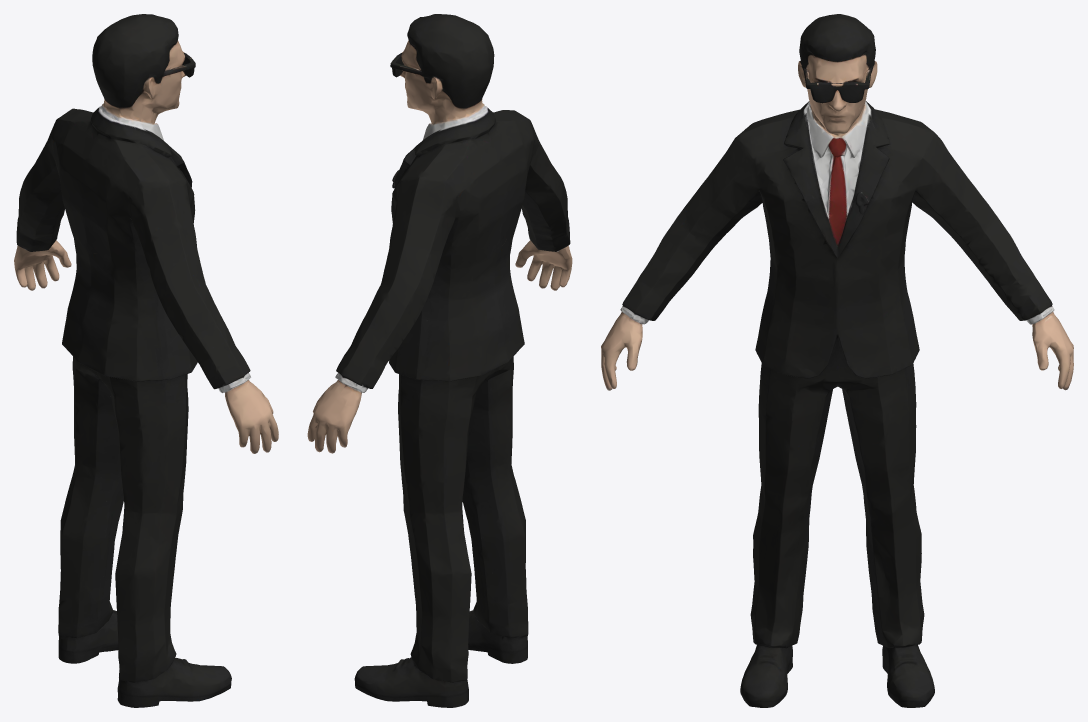
Rendered from gangster.glb.
3 renders of one model, left to right at view 1: azimuth 30°, elevation 25°; view 2: azimuth 150°, elevation 25°; view 3: azimuth 270°, elevation 25°, orthographic.
Visible parts, largest first — view 1: tripo_node_2baeaa1f-6b45-4a5a-80ee-6e645b1d856c; view 2: tripo_node_2baeaa1f-6b45-4a5a-80ee-6e645b1d856c; view 3: tripo_node_2baeaa1f-6b45-4a5a-80ee-6e645b1d856c.
Boxes of the visible parts, left/top/right/bottom form: tripo_node_2baeaa1f-6b45-4a5a-80ee-6e645b1d856c: left=14, top=14, right=278, bottom=707; tripo_node_2baeaa1f-6b45-4a5a-80ee-6e645b1d856c: left=307, top=14, right=572, bottom=707; tripo_node_2baeaa1f-6b45-4a5a-80ee-6e645b1d856c: left=601, top=14, right=1073, bottom=707.
Size of the model in its own units: 0.3308 by 1.8 by 1.16.
1 material, 1 textured.
